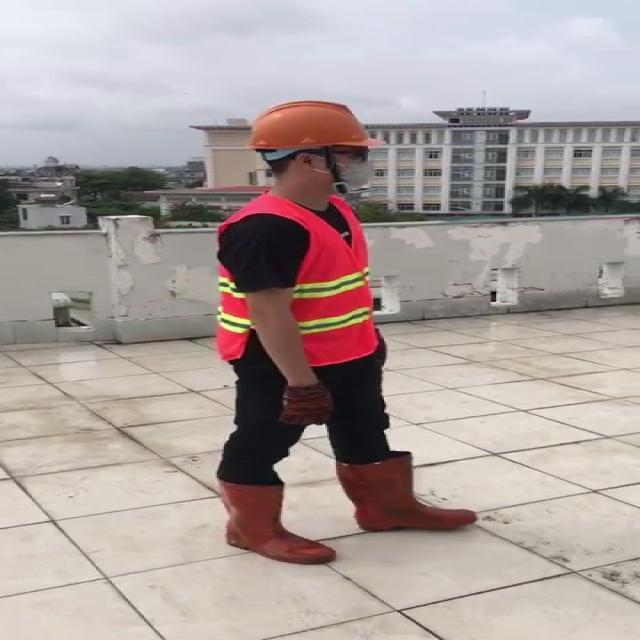boots: (331, 456, 476, 530), (210, 480, 332, 564)
